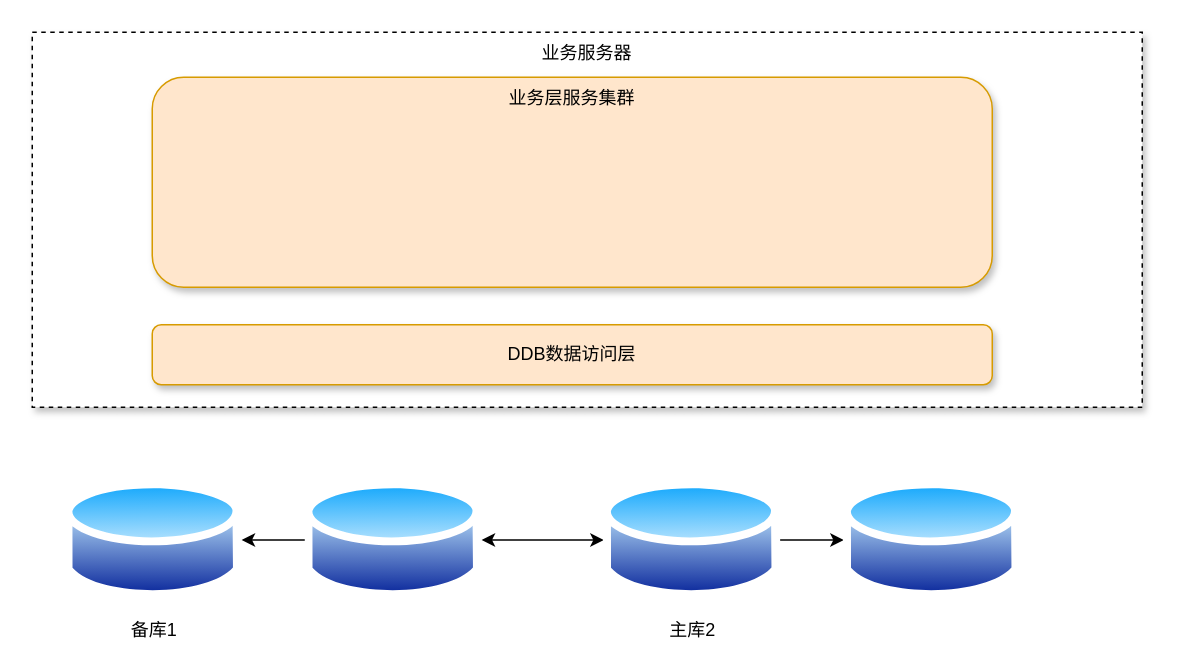
Image size: 1178x668. Some labels were removed from this diagram. The shapes that lost their labels are listed below. From the top down, each one's centre as x and y in pixels, then its label:
At point 392,539: "主库1".
At point 931,539: "备库2".
